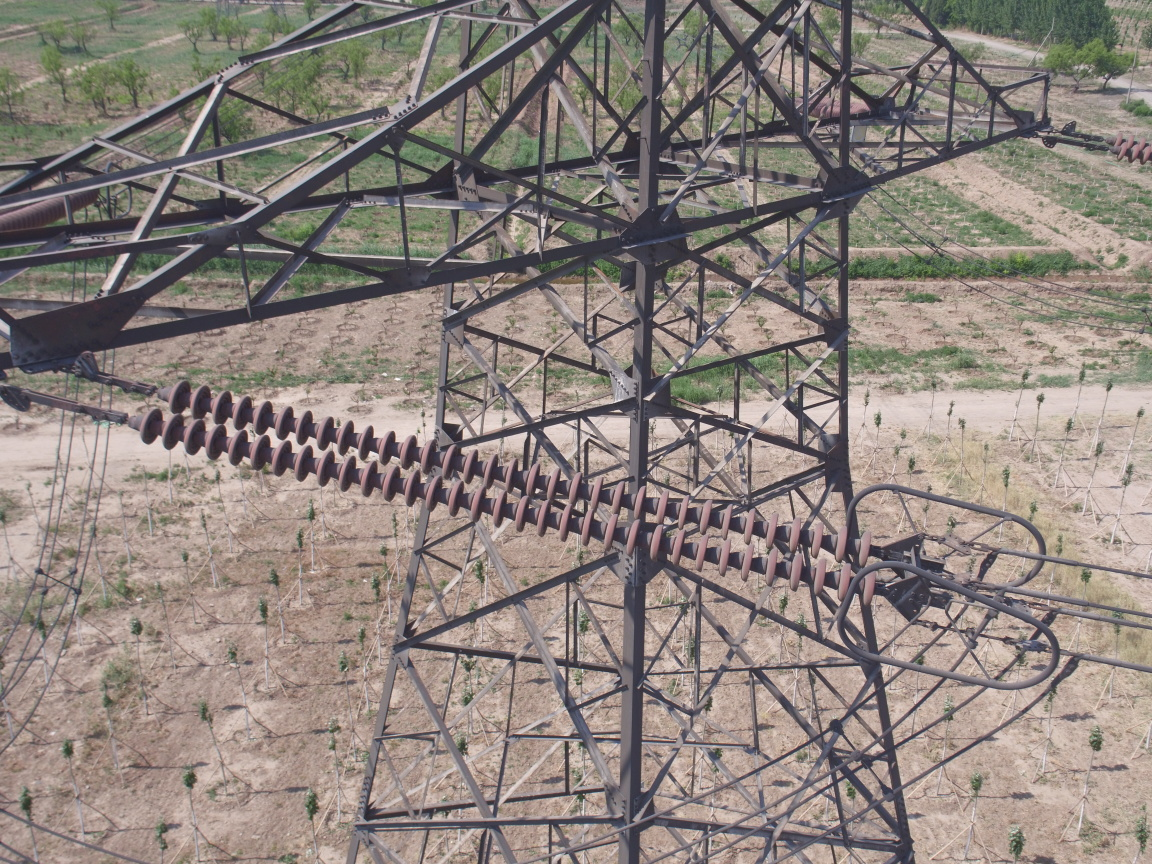insulator: (108, 375, 905, 609)
